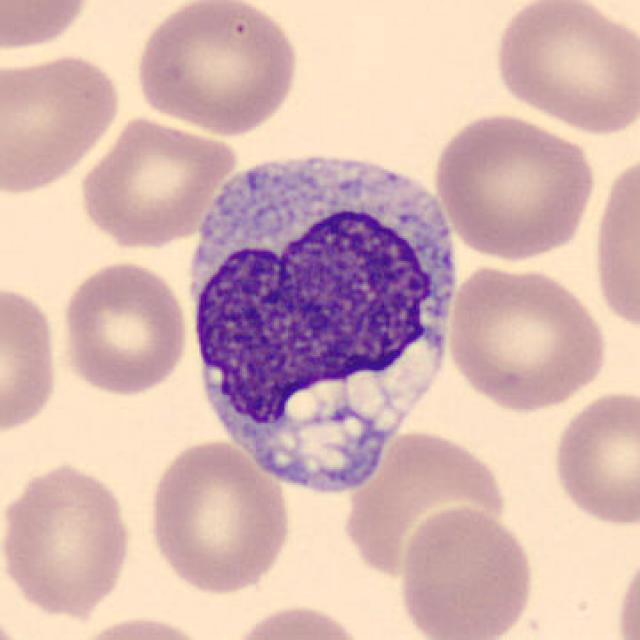Monocyte: (176, 132, 471, 496)
RBC: (338, 423, 508, 582), (441, 261, 611, 414), (430, 109, 599, 261), (142, 435, 295, 596), (132, 0, 302, 138), (75, 113, 238, 250), (0, 457, 137, 620), (489, 0, 636, 136), (394, 502, 538, 640), (57, 257, 192, 398), (0, 47, 124, 197), (548, 386, 638, 529), (0, 278, 64, 442), (588, 143, 638, 340), (222, 599, 374, 640), (0, 0, 96, 56), (64, 612, 220, 640), (613, 546, 639, 640)
